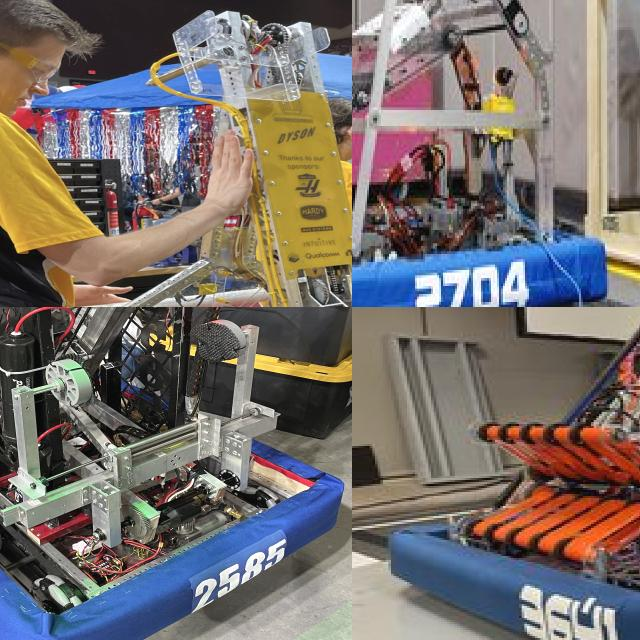FRC-Robots: (0, 307, 334, 640), (353, 307, 640, 640), (55, 0, 352, 307), (352, 0, 638, 307)
